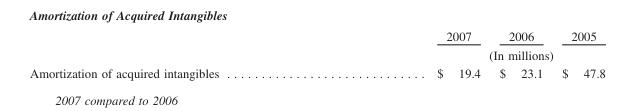table: (29, 28, 604, 79)
table column: (29, 28, 327, 79), (327, 28, 489, 79), (489, 28, 551, 79), (551, 28, 604, 79)
table column header: (29, 28, 604, 63)
table row: (29, 45, 604, 63), (29, 28, 604, 45), (29, 63, 604, 79)
table spanning cell: (327, 45, 604, 63)
